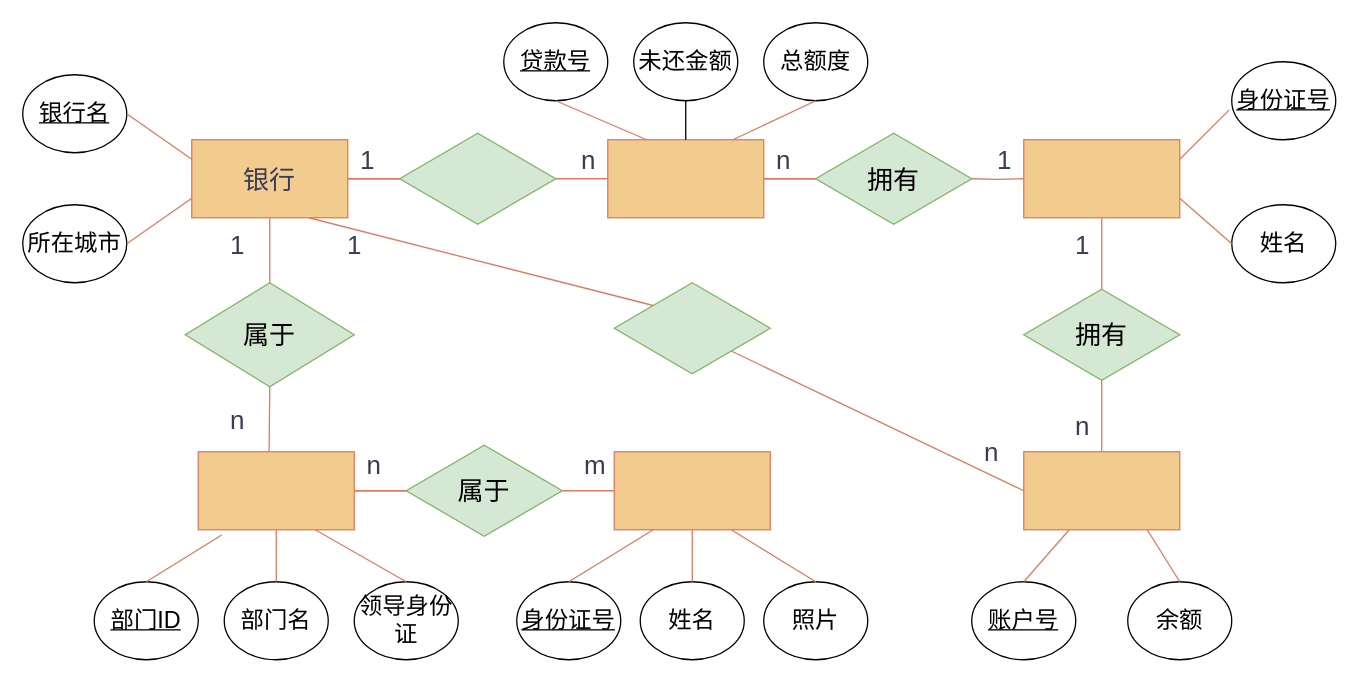
The diagram is 1359 pixels wide and 683 high, and some of its shapes have lost their labels. The box of each missing label's shape, as (x1, y1, x2, y2) in pixels:
发放: (398, 132, 556, 224)
员工: (613, 450, 770, 530)
客户: (1022, 138, 1180, 218)
开设: (613, 281, 770, 374)
账户: (1022, 450, 1180, 530)
贷款: (606, 138, 764, 218)
部门: (197, 450, 354, 530)
